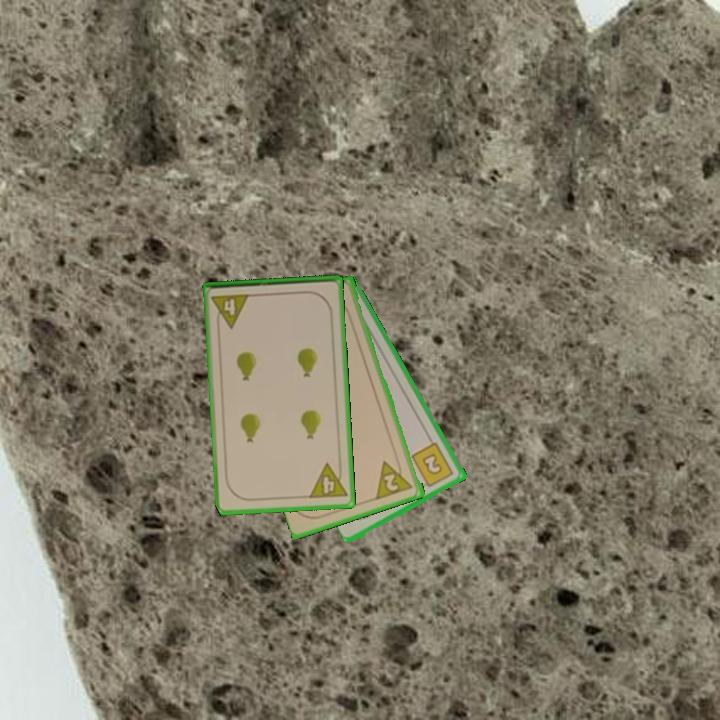2b: (408, 439, 457, 490)
2p: (373, 454, 416, 502)
4p: (305, 459, 350, 501), (208, 290, 253, 331)
